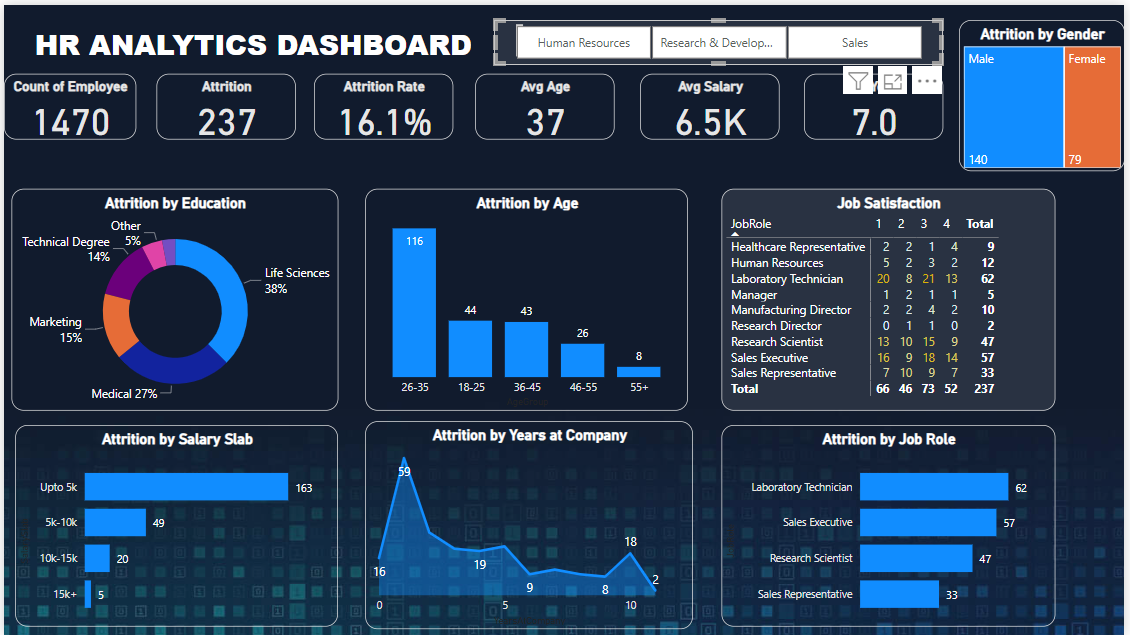

The page's visual inventory and layout, read from the dashboard file:
{"tool":"powerbi","page":{"name":"Page 1","canvas":[1280,720],"ordinal":0},"visuals":[{"type":"card","title":"Count of Employee","fields":{"Values":["Count(HR_Analytics.EmpID)"]},"box":[0,78.2,150.9,75.5],"z":0},{"type":"card","title":"Attrition","fields":{"Values":["Sum(HR_Analytics.attritioncount)"]},"box":[174.3,78.2,159.2,75.5],"z":1},{"type":"card","title":"Attrition Rate","fields":{"Values":["HR_Analytics.AttritionRate"]},"box":[354,78.2,159.2,75.5],"z":2},{"type":"card","title":"Avg Age","fields":{"Values":["Avg(HR_Analytics.Age)"]},"box":[537.9,78.2,159.2,75.5],"z":3},{"type":"card","title":"Avg Salary","fields":{"Values":["Avg(HR_Analytics.MonthlyIncome)"]},"box":[727.3,78.2,159.2,75.5],"z":4},{"type":"card","title":"Avg Years","fields":{"Values":["Avg(HR_Analytics.YearsAtCompany)"]},"box":[913.9,78.2,159.2,75.5],"z":5},{"type":"donutChart","title":"Attrition by Education","fields":{"Category":["HR_Analytics.EducationField"],"Y":["Sum(HR_Analytics.attritioncount)"]},"box":[8.2,209.9,373.2,253.9],"z":6},{"type":"columnChart","title":"Attrition by Age","fields":{"Category":["HR_Analytics.AgeGroup"],"Y":["Sum(HR_Analytics.attritioncount)"]},"box":[413,209.9,369.1,253.9],"z":7},{"type":"pivotTable","title":"Job Satisfaction","fields":{"Rows":["HR_Analytics.JobRole"],"Columns":["HR_Analytics.JobSatisfaction"],"Values":["Sum(HR_Analytics.attritioncount)"]},"box":[820.6,209.9,381.5,253.9],"z":8},{"type":"barChart","title":"Attrition by Salary Slab","fields":{"Category":["HR_Analytics.SalarySlab"],"Y":["Sum(HR_Analytics.attritioncount)"]},"box":[12.3,480.3,369.1,230.5],"z":9},{"type":"barChart","title":"Attrition by Job Role","fields":{"Y":["Sum(HR_Analytics.attritioncount)"],"Category":["HR_Analytics.JobRole"]},"box":[820.6,480.3,381.5,230.5],"z":10},{"type":"areaChart","title":"Attrition by Years at Company","fields":{"Category":["HR_Analytics.YearsAtCompany"],"Y":["Sum(HR_Analytics.attritioncount)"]},"box":[413,476.2,374.6,237.4],"z":11},{"type":"treemap","title":"Attrition by Gender","fields":{"Group":["HR_Analytics.Gender"],"Values":["Sum(HR_Analytics.attritioncount)"]},"box":[1090.9,17.8,189.4,172.9],"z":12},{"type":"slicer","fields":{"Values":["HR_Analytics.Department"]},"box":[559.9,17.8,513.2,50.8],"z":13},{"type":"textbox","box":[30.2,17.8,568.1,50.8],"z":14}]}

Visuals, with their boxes in screenshot pixels (x1, y1, x2, y2), scaled from the page's 1280x720 canvas onto the 1130x635 screenshot:
"Count of Employee" card: bbox=(0, 69, 133, 136)
"Attrition" card: bbox=(154, 69, 294, 136)
"Attrition Rate" card: bbox=(313, 69, 453, 136)
"Avg Age" card: bbox=(475, 69, 615, 136)
"Avg Salary" card: bbox=(642, 69, 783, 136)
"Avg Years" card: bbox=(807, 69, 947, 136)
"Attrition by Education" donutChart: bbox=(7, 185, 337, 409)
"Attrition by Age" columnChart: bbox=(365, 185, 690, 409)
"Job Satisfaction" pivotTable: bbox=(724, 185, 1061, 409)
"Attrition by Salary Slab" barChart: bbox=(11, 424, 337, 627)
"Attrition by Job Role" barChart: bbox=(724, 424, 1061, 627)
"Attrition by Years at Company" areaChart: bbox=(365, 420, 695, 629)
"Attrition by Gender" treemap: bbox=(963, 16, 1129, 168)
slicer - HR_Analytics.Department: bbox=(494, 16, 947, 61)
textbox: bbox=(27, 16, 528, 61)
